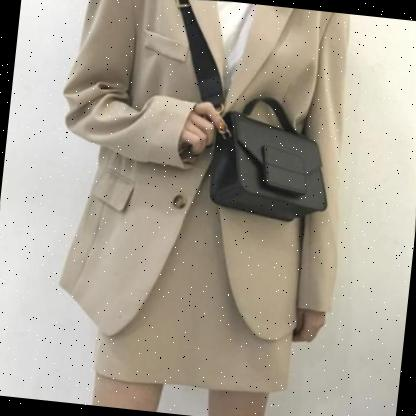bag: (186, 82, 345, 232)
